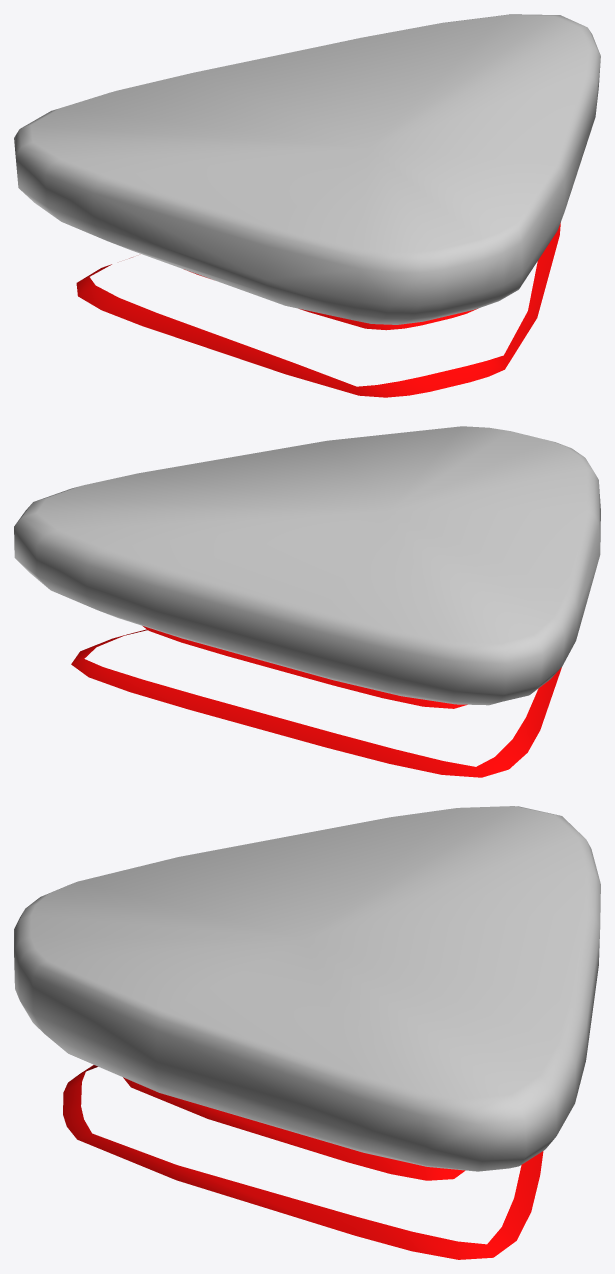
Rendered from SM_Table_003.fbx.
The picture shows the model from 3 angles, top to bottom: view 1: azimuth 30°, elevation 25°; view 2: azimuth 150°, elevation 25°; view 3: azimuth 270°, elevation 25°; orthographic projection. The views are drawn at different scales.
Parts seen in each view (by area): view 1: polySurface15; view 2: polySurface15; view 3: polySurface15.
Part boxes in pixels (box(x1,y1,x2,y2)): polySurface15: box(14, 14, 600, 397); polySurface15: box(14, 426, 600, 777); polySurface15: box(14, 806, 600, 1259).
Size of the model in its own units: 424 by 115 by 340.
